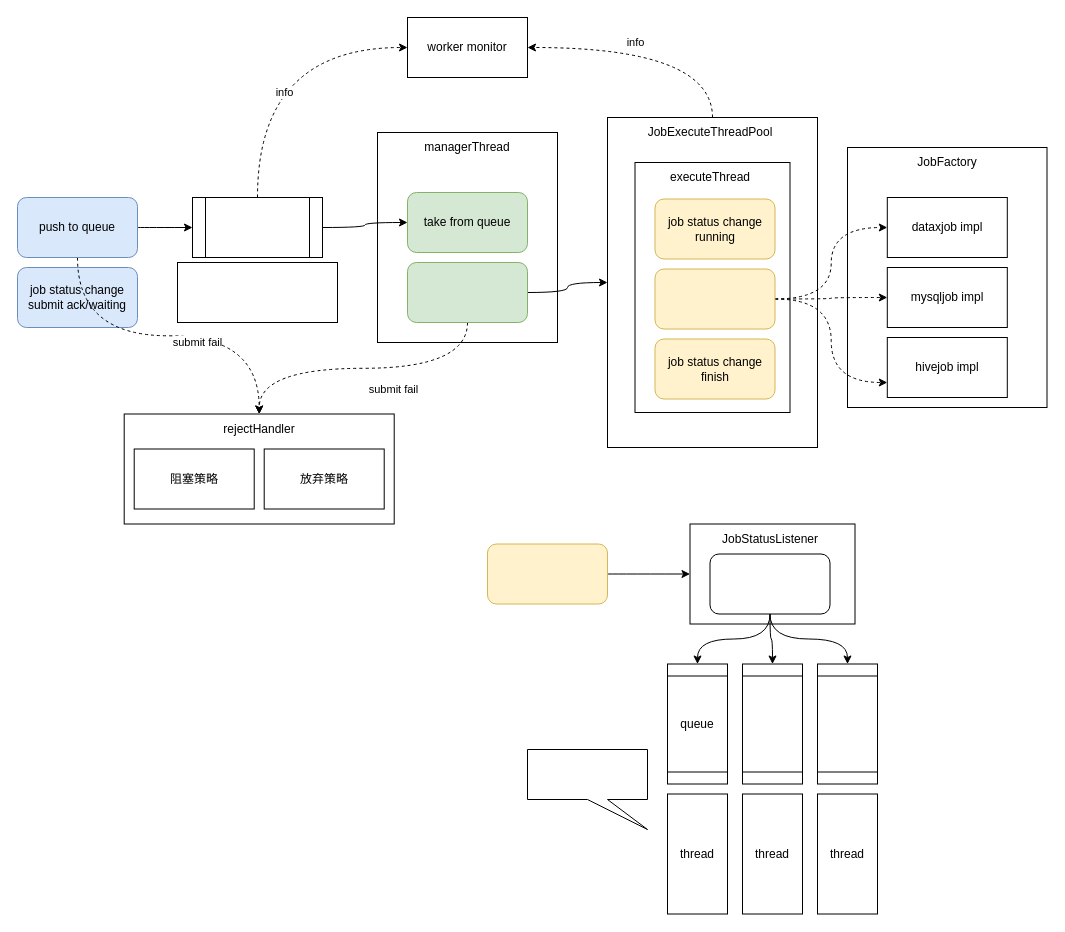
This 1065x932 diagram has some shape labels left out. Each missing label, with the centre of its shape:
handle: (x=714, y=298)
hash(job_id): (x=769, y=583)
job reference container: (x=257, y=292)
job status change: (x=547, y=573)
jobThreadQueue: (x=257, y=227)
submit to thread pool: (x=467, y=292)
thread消费queue通知相关的订阅者: (x=587, y=789)
